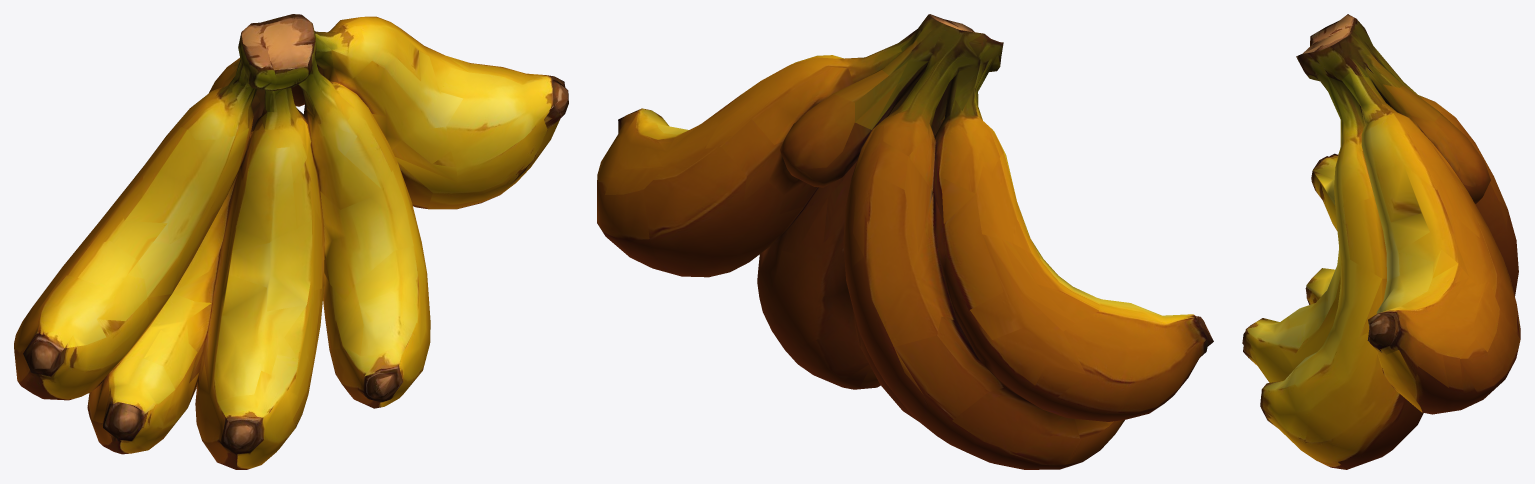
Rendered from bananaC.glb.
3 views of the same model, side by side, from view 1: azimuth 30°, elevation 25°; view 2: azimuth 150°, elevation 25°; view 3: azimuth 270°, elevation 25° (orthographic). The views are drawn at different scales.
Parts seen in each view (by area): view 1: BananaCMesh; view 2: BananaCMesh; view 3: BananaCMesh.
Boxes of the visible parts, bbox=[...] form: BananaCMesh: bbox=[14, 14, 568, 469]; BananaCMesh: bbox=[597, 14, 1213, 469]; BananaCMesh: bbox=[1242, 14, 1520, 469].
Bounding box in the file's own units: 0.4173 × 0.297 × 0.1795.
Materials: 1 (1 with a texture image).
